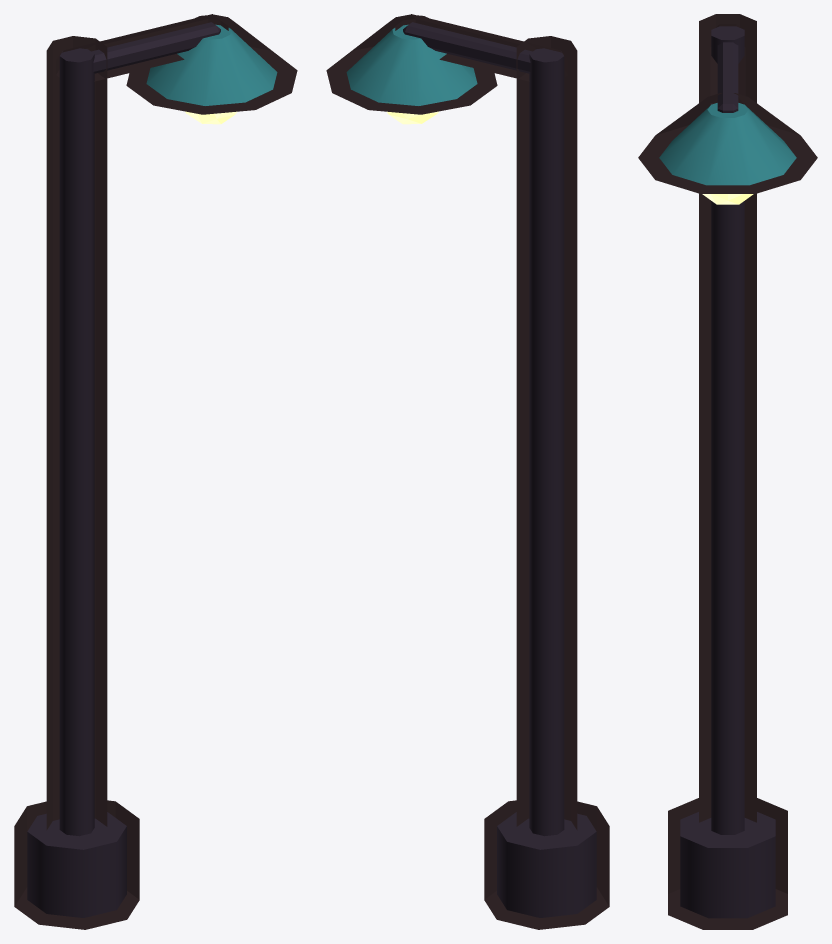
File: lampione.glb
3 views of the same model, side by side, from view 1: azimuth 30°, elevation 25°; view 2: azimuth 150°, elevation 25°; view 3: azimuth 270°, elevation 25° (orthographic). The views are drawn at different scales.
Visible parts, largest first — view 1: lampione; view 2: lampione; view 3: lampione.
Boxes of the visible parts, left/top/right/bottom form: lampione: left=14, top=14, right=297, bottom=929; lampione: left=326, top=14, right=609, bottom=929; lampione: left=638, top=14, right=817, bottom=929.
Bounding box in the file's own units: 1.18 × 3.76 × 0.6969.
